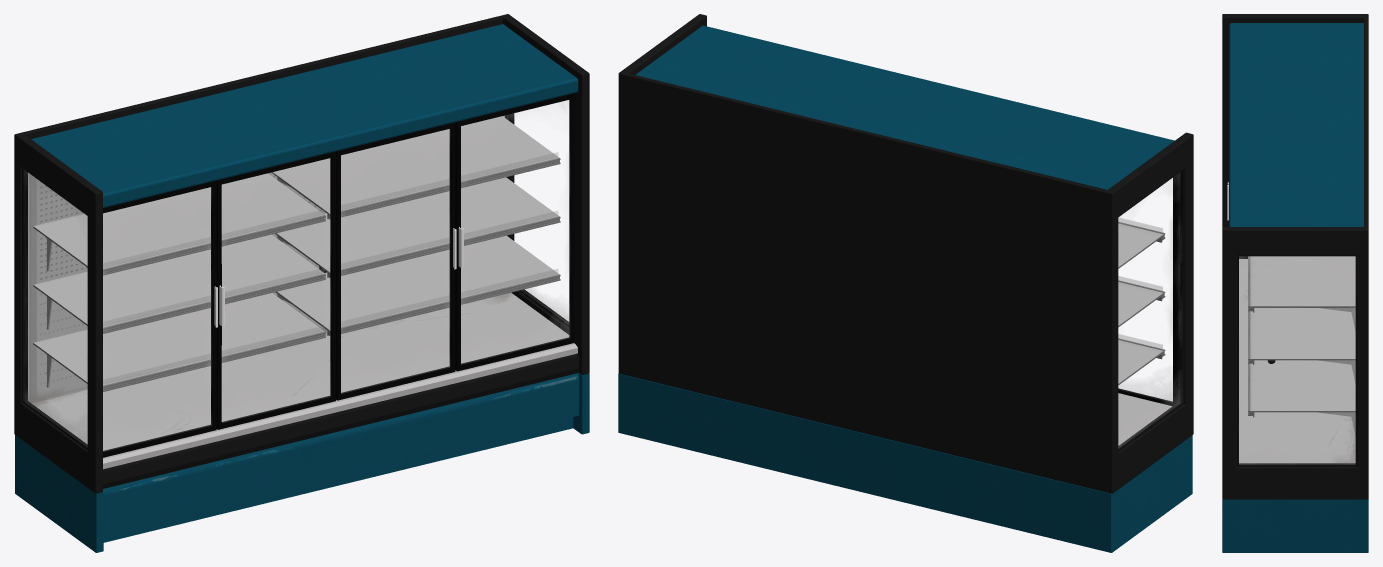
Rendered from display_fridge.glb.
3 views of the same model, side by side, from view 1: azimuth 30°, elevation 25°; view 2: azimuth 150°, elevation 25°; view 3: azimuth 270°, elevation 25° (orthographic). The views are drawn at different scales.
Visible parts, largest first — view 1: tall.003, socle.001, etagere, etagere.001, etagere.002, cadrebd.003, cadrebd.001, cadrebd.002, cadrebd, vitremini.002, vitremini, vitremini.001 (+6 smaller); view 2: tall.003, socle.001, glass.00, cadrebd, joint001, etagere.001, etagere.002, etagere, PORTE G01; view 3: tall.003, socle.001, etagere, etagere.001, etagere.002, joint001, glass.001.
Boxes of the visible parts, x1,y1,x2,y2 form: tall.003: (14, 14, 589, 493); socle.001: (15, 372, 589, 552); etagere: (33, 116, 560, 275); etagere.001: (33, 177, 560, 333); etagere.002: (33, 235, 560, 391); cadrebd.003: (455, 93, 574, 371); cadrebd.001: (336, 122, 455, 400); cadrebd.002: (216, 151, 335, 429); cadrebd: (103, 180, 216, 457); vitremini.002: (103, 269, 557, 384); vitremini: (103, 152, 557, 268); vitremini.001: (103, 211, 557, 326); tall.003: (618, 14, 1193, 493); socle.001: (618, 373, 1192, 552); glass.00: (1118, 171, 1182, 448); cadrebd: (1118, 174, 1177, 406); joint001: (1118, 169, 1183, 451); etagere.001: (1118, 280, 1165, 327); etagere.002: (1118, 338, 1165, 385); etagere: (1118, 222, 1165, 268); PORTE G01: (1118, 219, 1172, 402); tall.003: (1222, 14, 1368, 499); socle.001: (1222, 499, 1368, 552); etagere: (1248, 256, 1355, 312); etagere.001: (1248, 308, 1355, 364); etagere.002: (1248, 360, 1355, 417); joint001: (1237, 255, 1357, 466); glass.001: (1239, 256, 1355, 464).
Bounding box in the file's own units: 2.81 × 1.95 × 0.8009.
11 materials, 6 textured.
